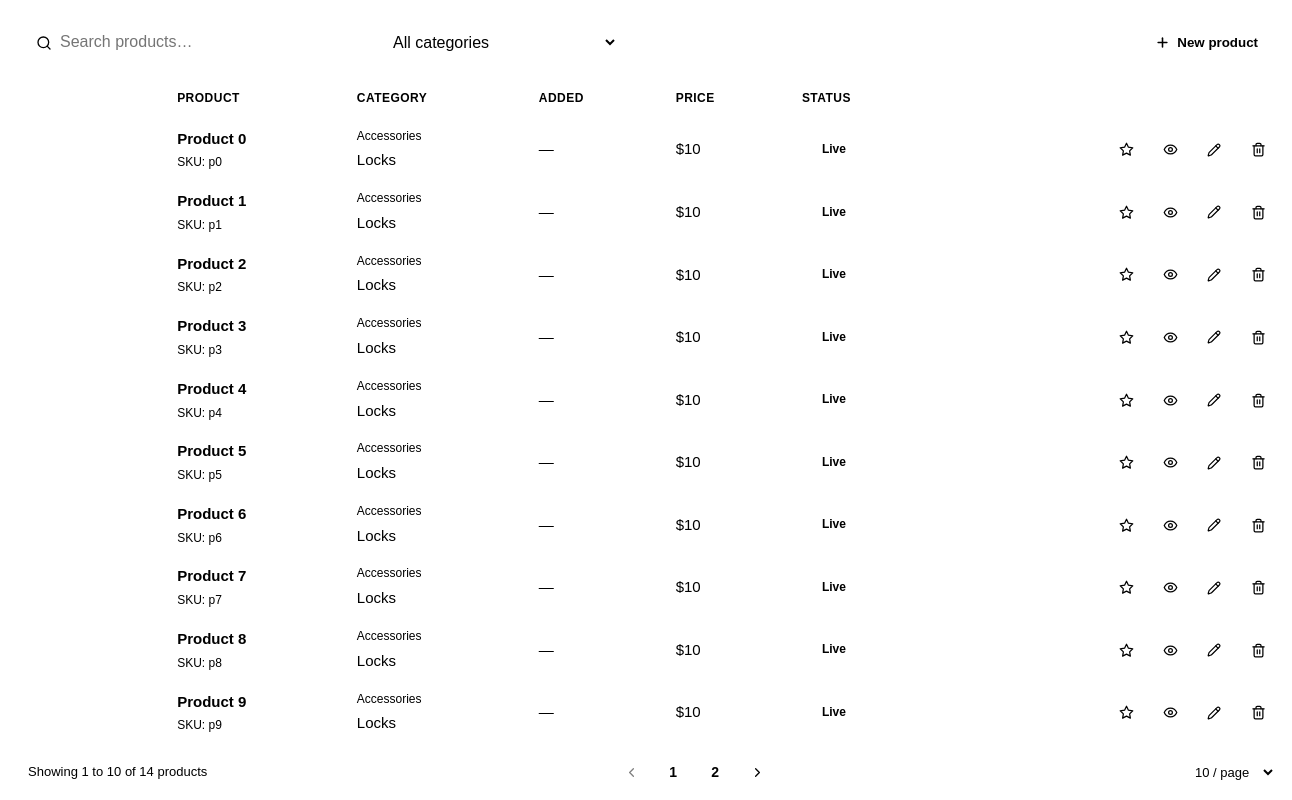
it: ProductList › resets to page 1 when the search query changes
(page scrolled)
Click the button named "go to page 2". click: (715, 772)
box: [697, 754, 733, 790]
(page scrolled)
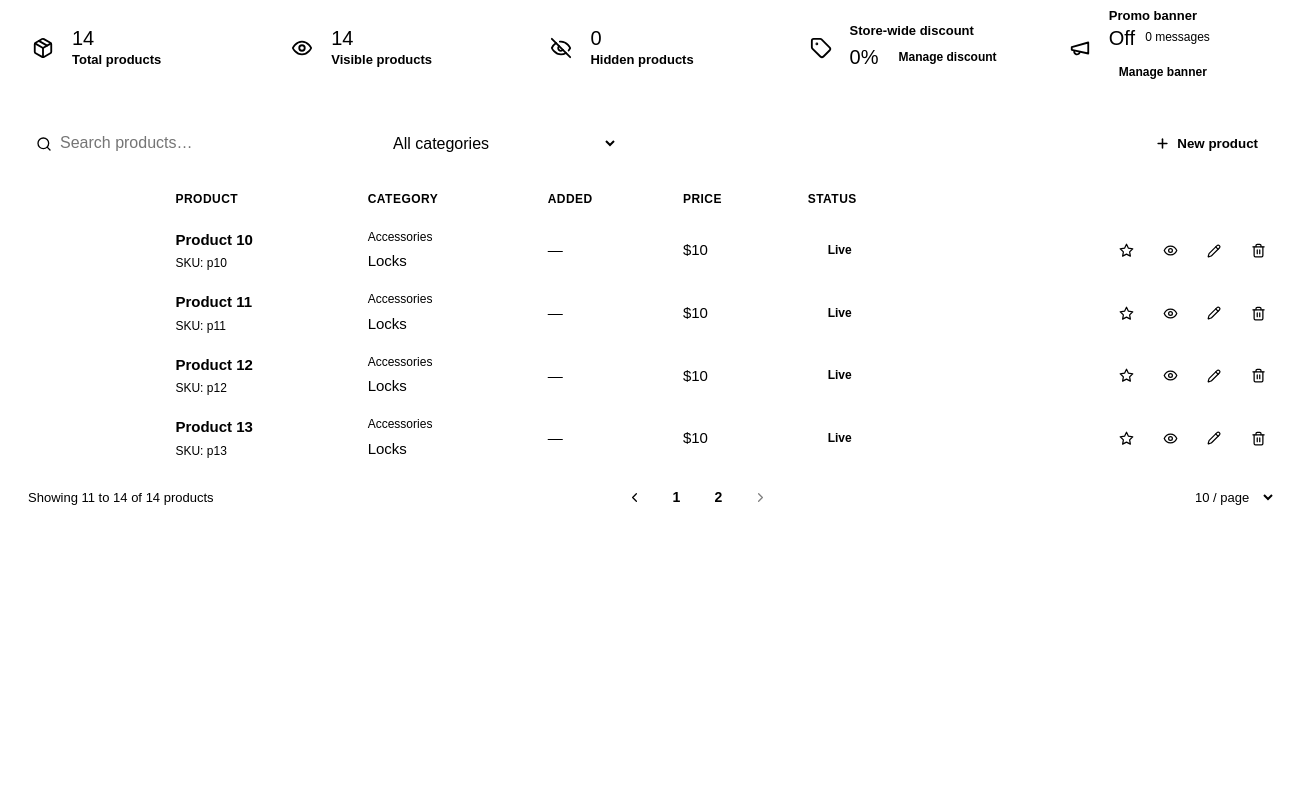
Type "Product 1" into the search field labelled "Search products…". click: (194, 144)
box: [24, 119, 364, 168]
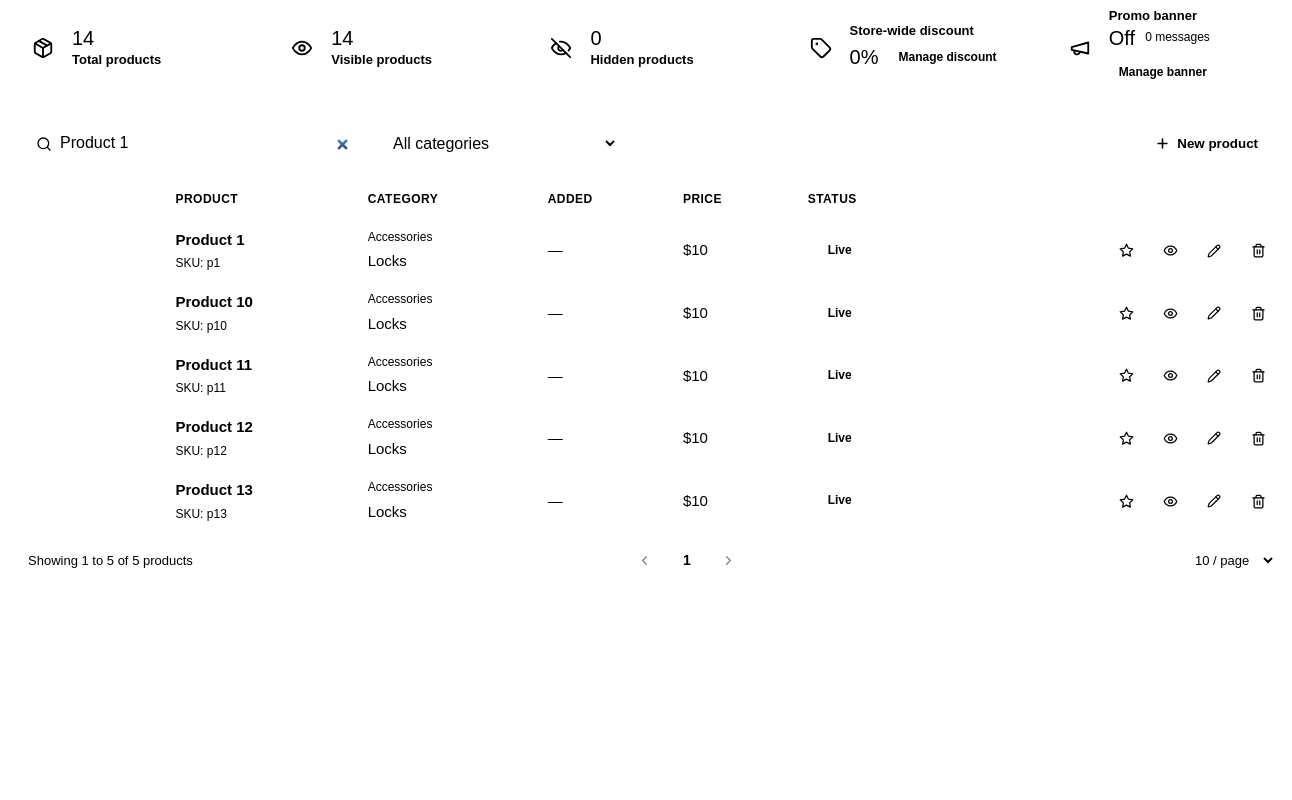
Expected: the text "Showing 1 to 5 of 5 products" is shown, [28, 550, 193, 571]
